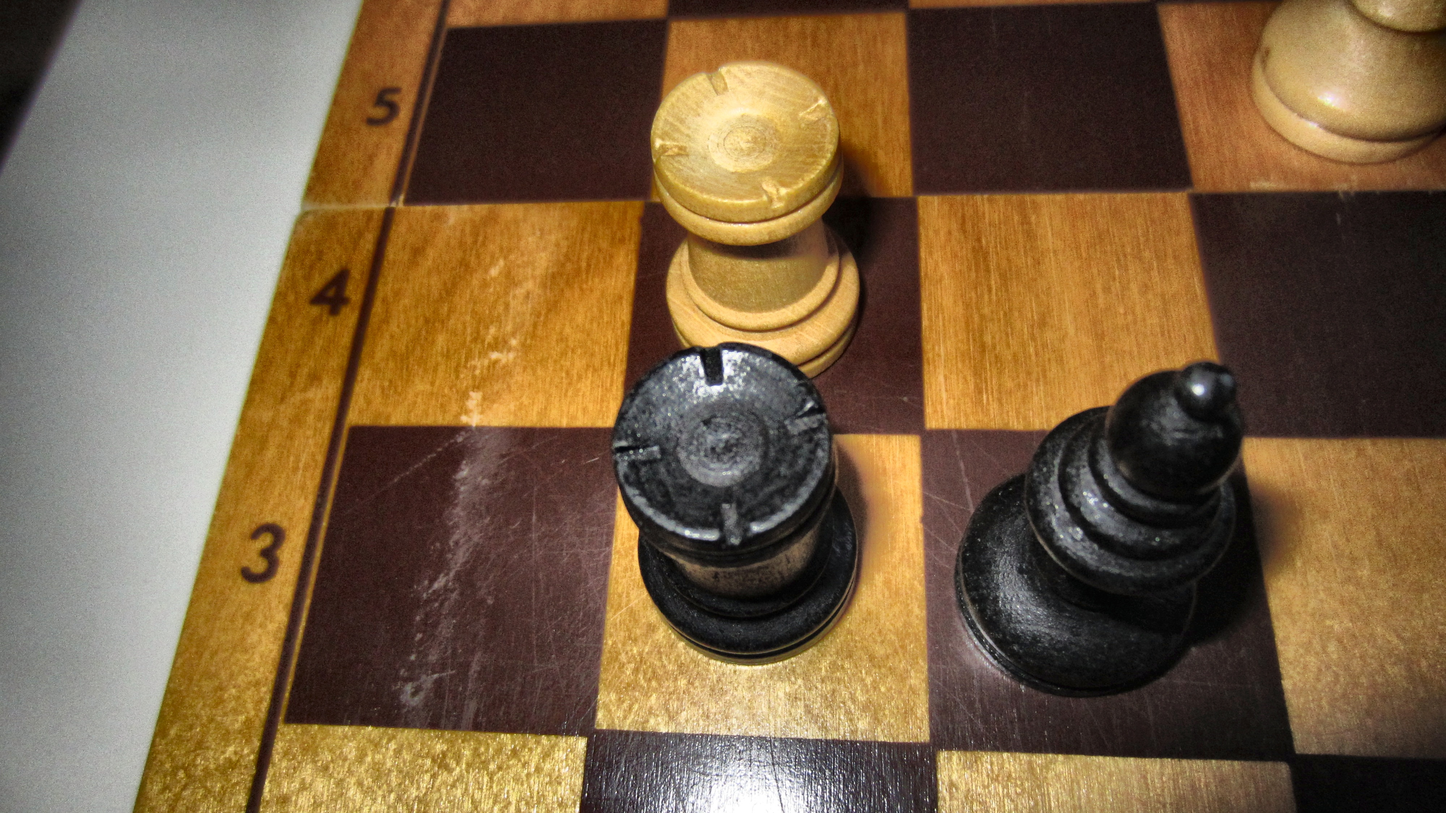black-bishop: (951, 356, 1243, 700)
black-rook: (609, 341, 860, 668)
white-rook: (646, 59, 865, 380)
